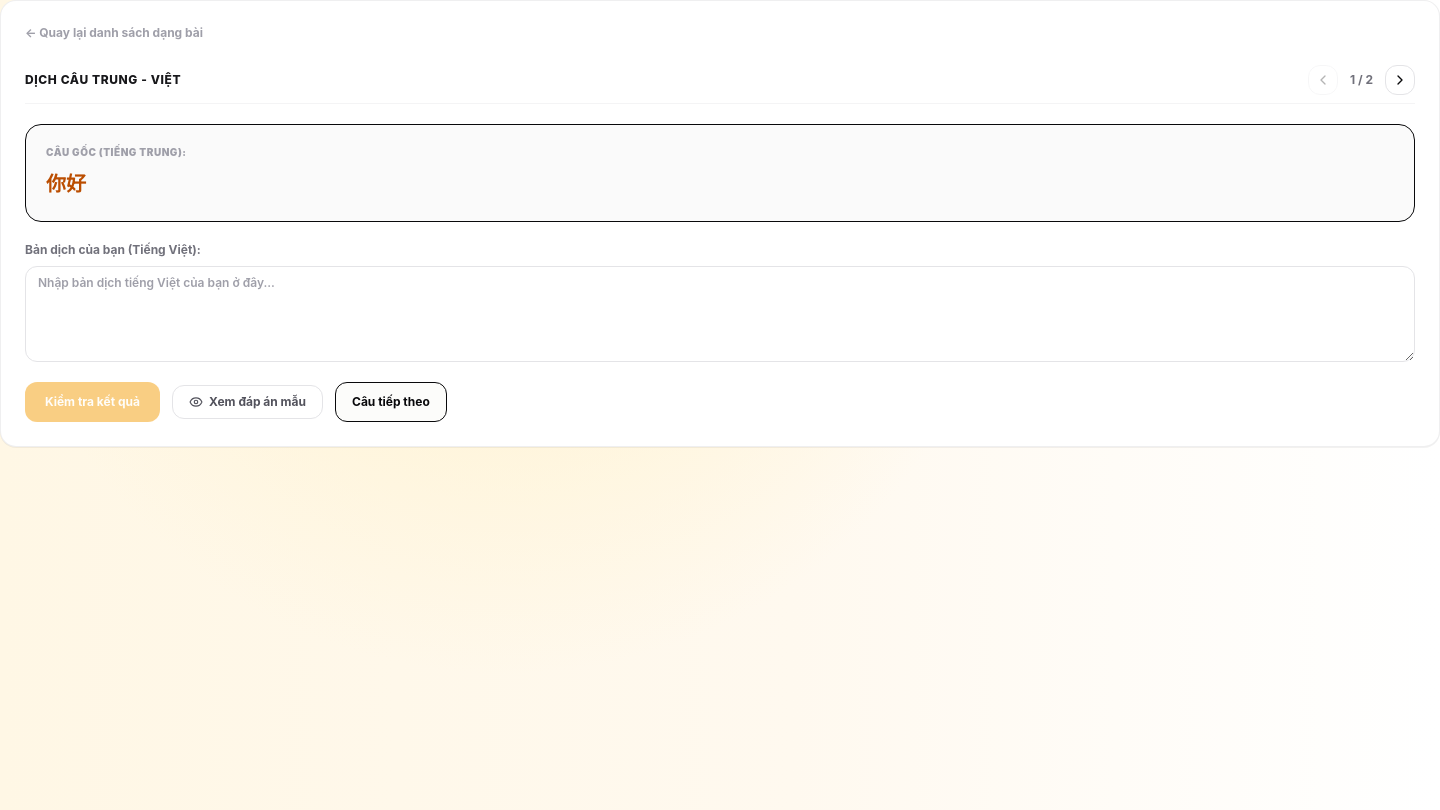
it: BilingualExercise — trans_zh_vi mode › shows missing words when translation is incomplete
Reference: "Xin chào" → gõ thiếu một từ
In the text box with placeholder "Nhập bản dịch tiếng Việt của bạn ở đây...": (720, 314) [25, 266, 1415, 362], type "Xin"
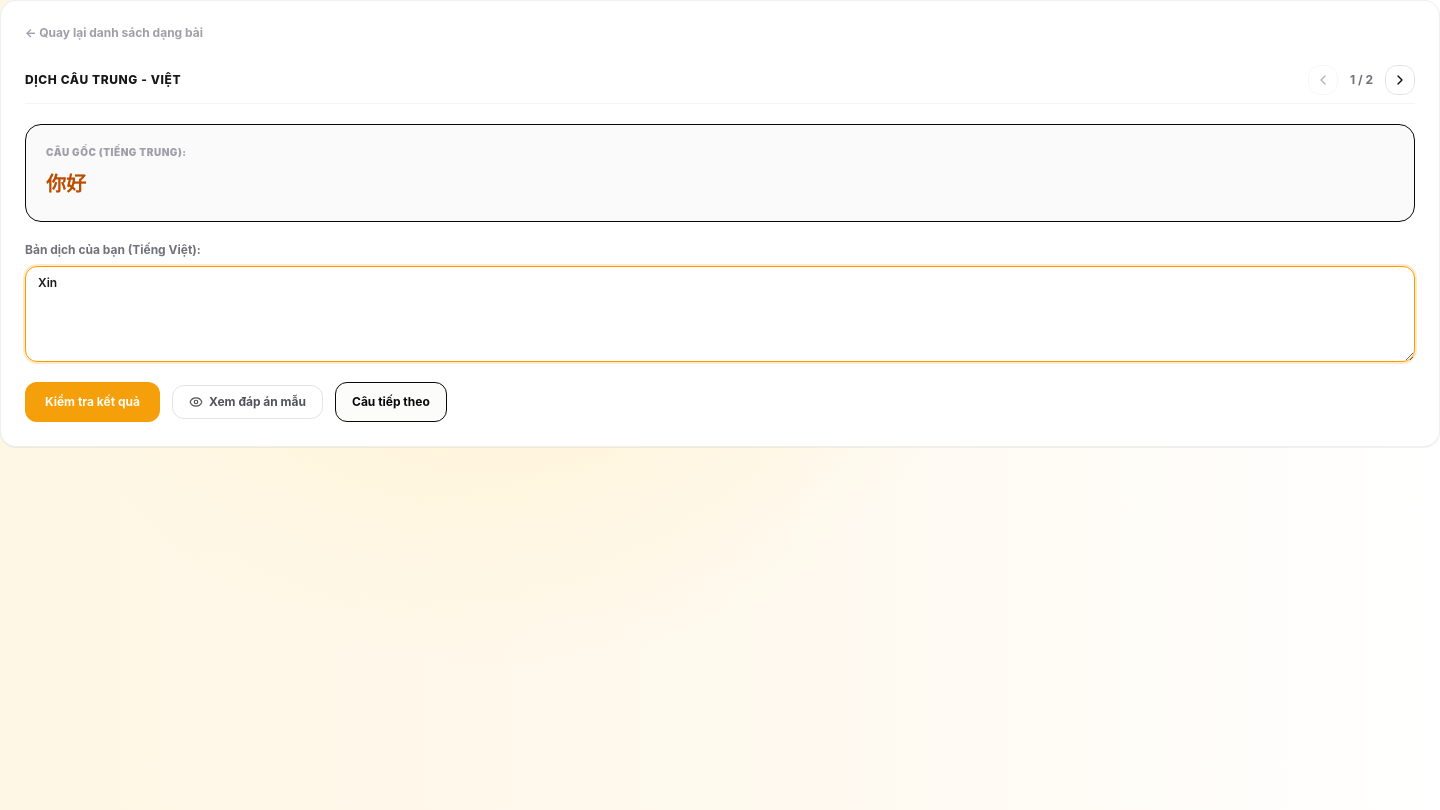
Click the button "Kiểm tra kết quả": (92, 402) [25, 382, 160, 422]
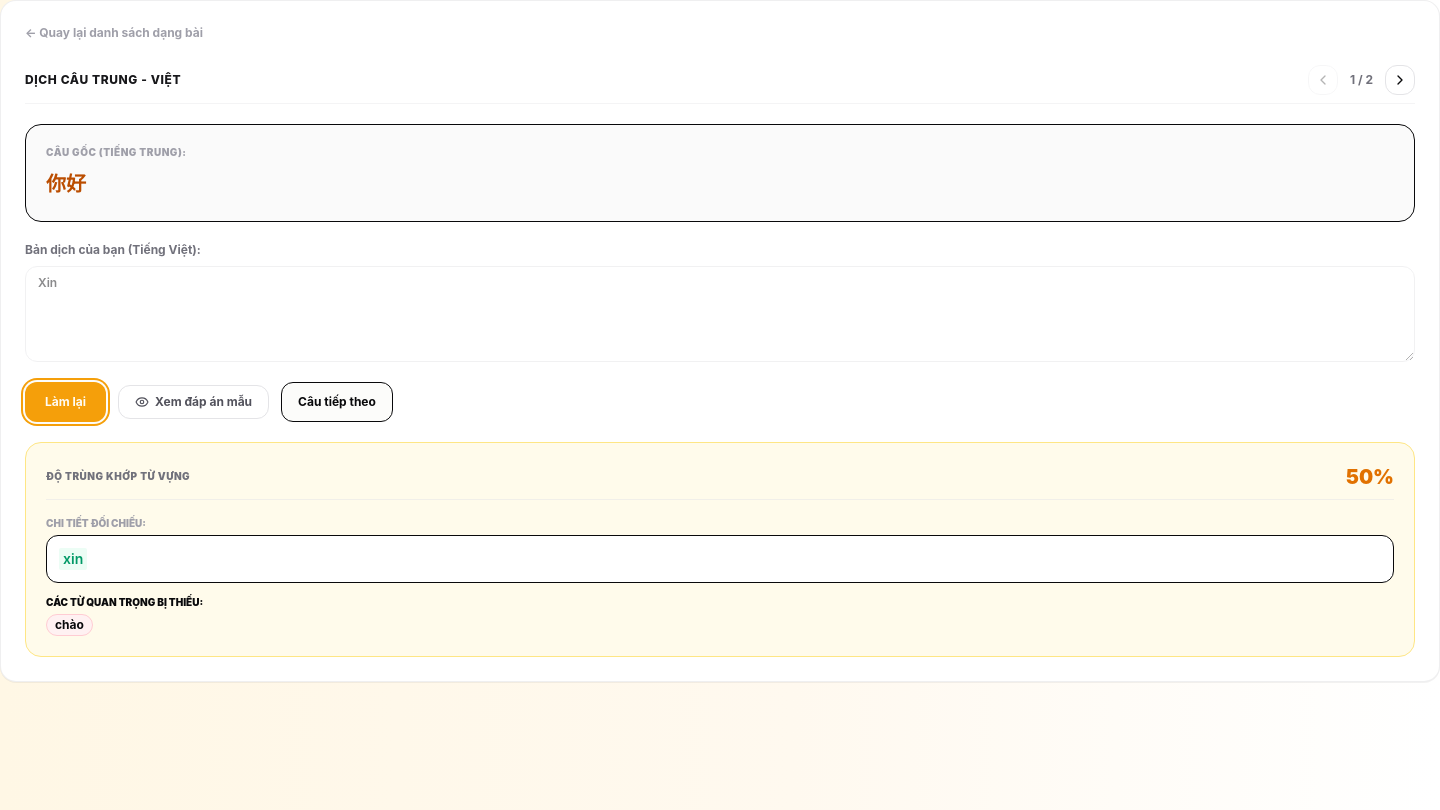
Result: the text "Các từ quan trọng bị thiếu:" is shown at [46, 596, 203, 608]
